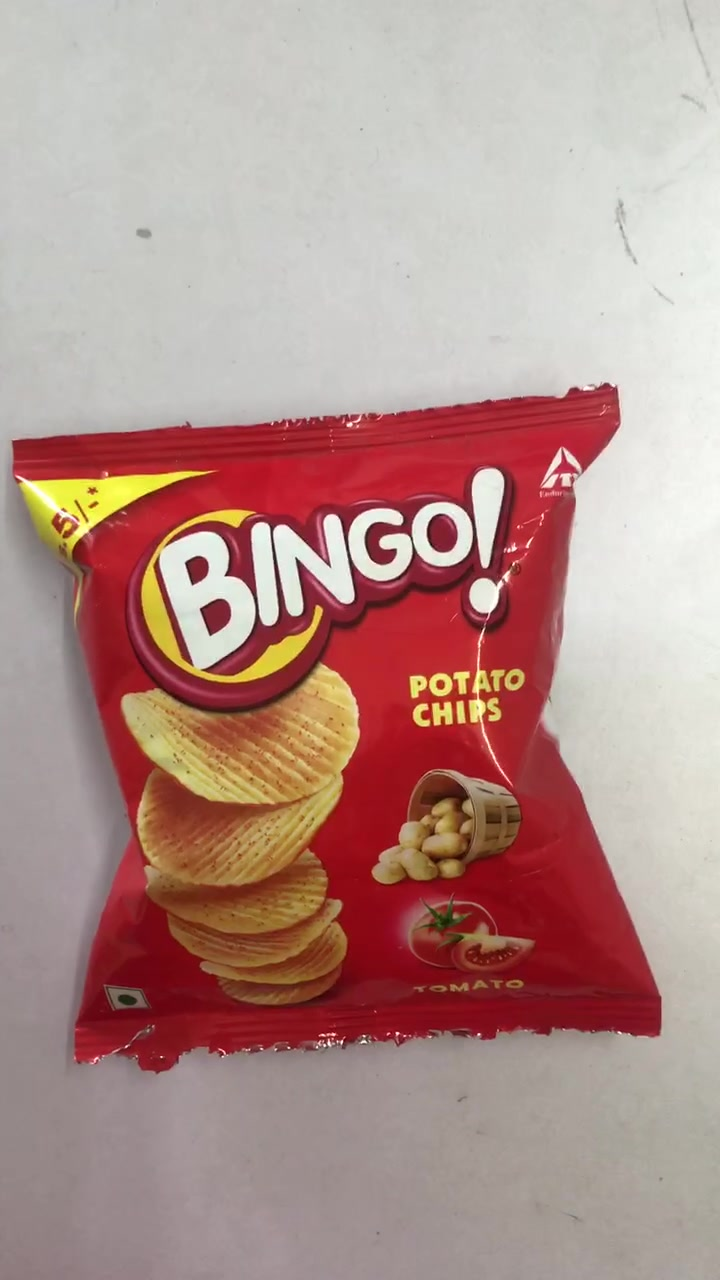Bingo: (16, 441, 662, 1035)
